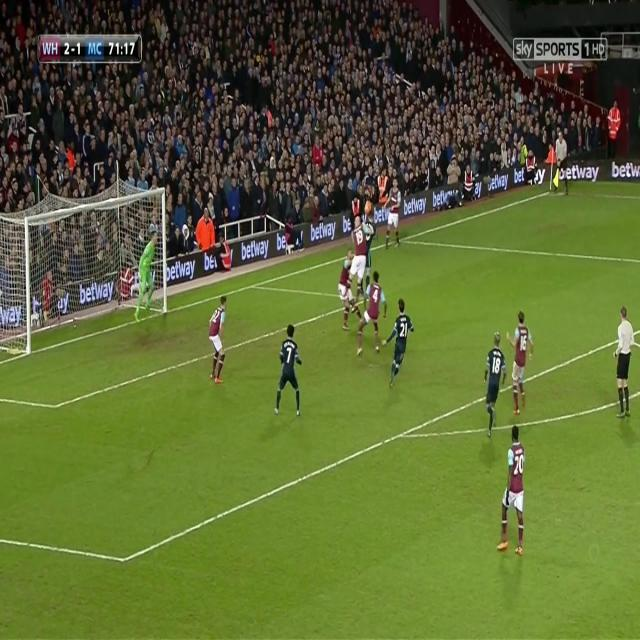Goalkeeper: (130, 228, 162, 325)
Player: (496, 422, 526, 562), (506, 307, 534, 420), (380, 300, 416, 387), (272, 324, 304, 419), (356, 270, 388, 356), (206, 292, 232, 388), (482, 330, 506, 434), (346, 214, 369, 303), (337, 250, 361, 330), (381, 178, 402, 250)
Referee: (611, 304, 637, 422), (552, 128, 570, 194)
